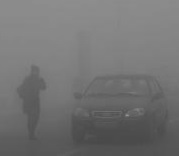person: (15, 63, 48, 142)
